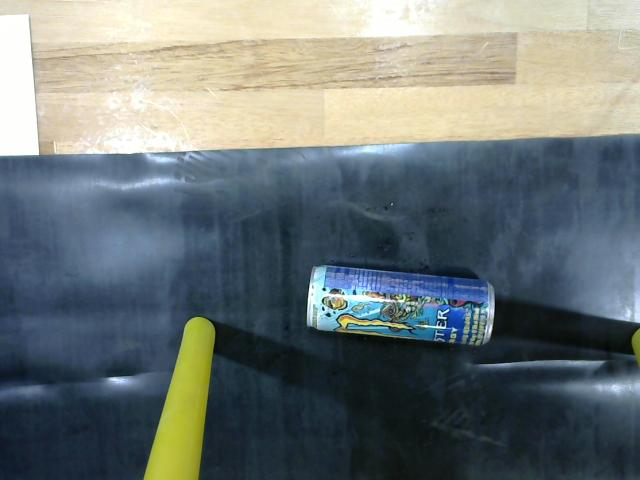can: (304, 257, 499, 351)
